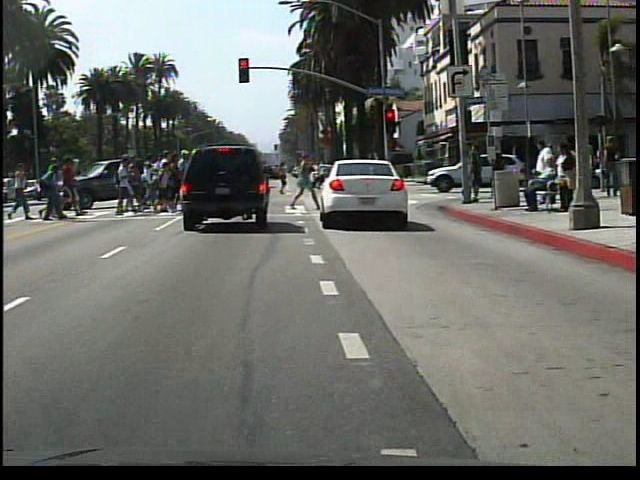person: (521, 154, 563, 215), (290, 147, 322, 214), (550, 138, 578, 211)
